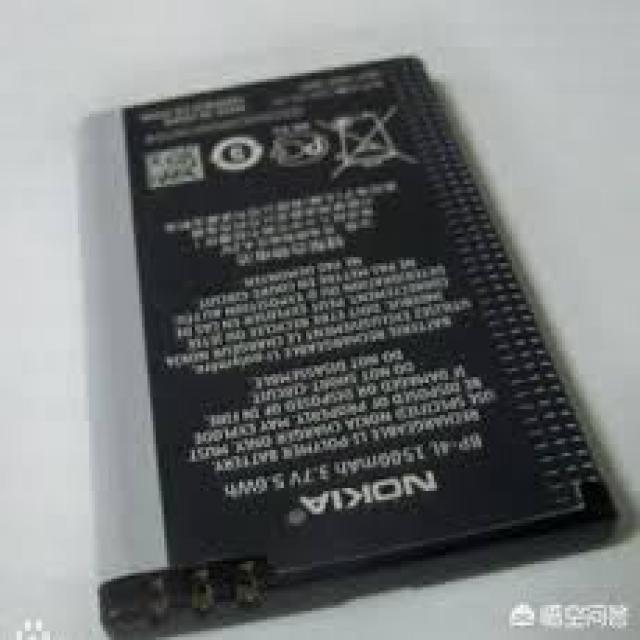hazard: (72, 71, 599, 640)
